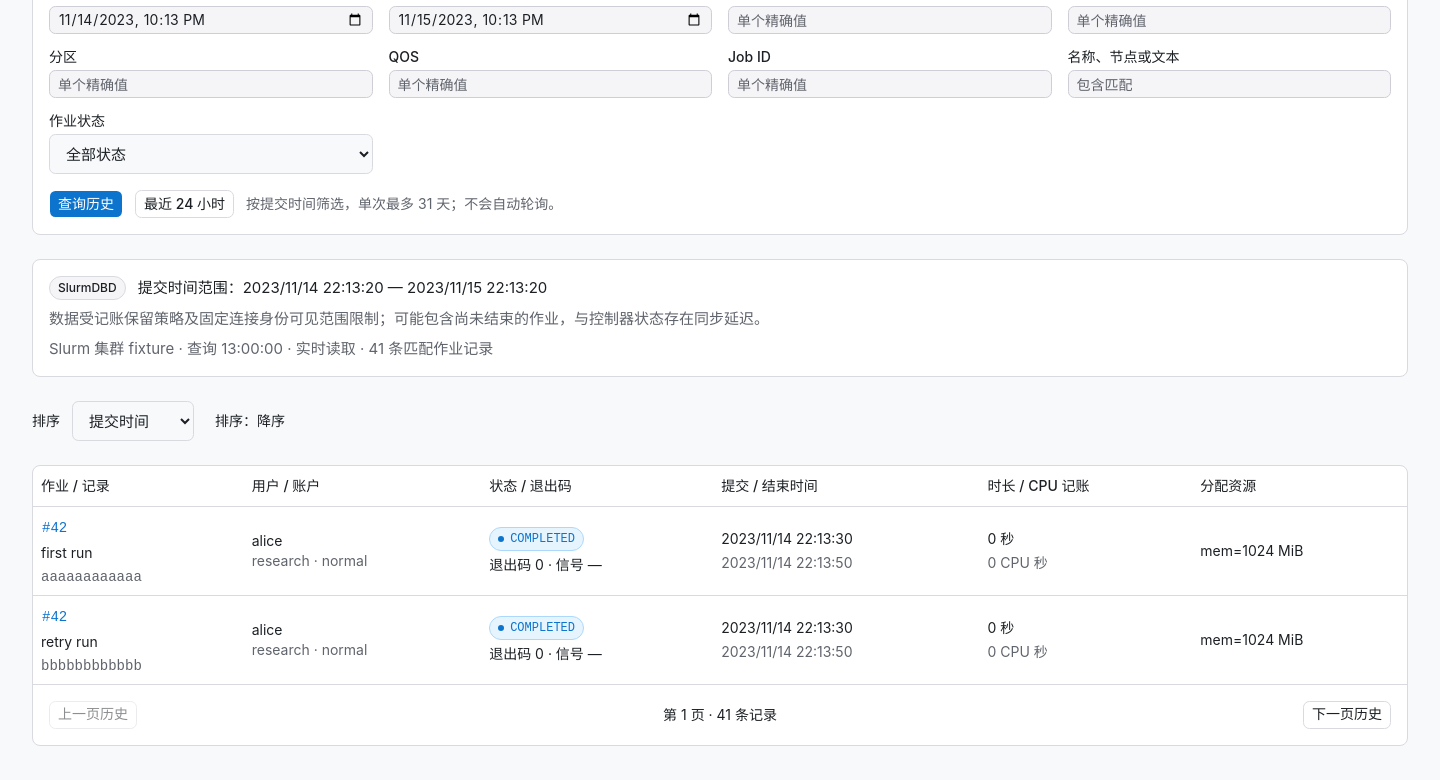
Test case: loads record detail without treating Job ID as unique and keeps step totals separate
(page scrolled)
Click the 1st button "#42": click(55, 528) [41,514,68,542]
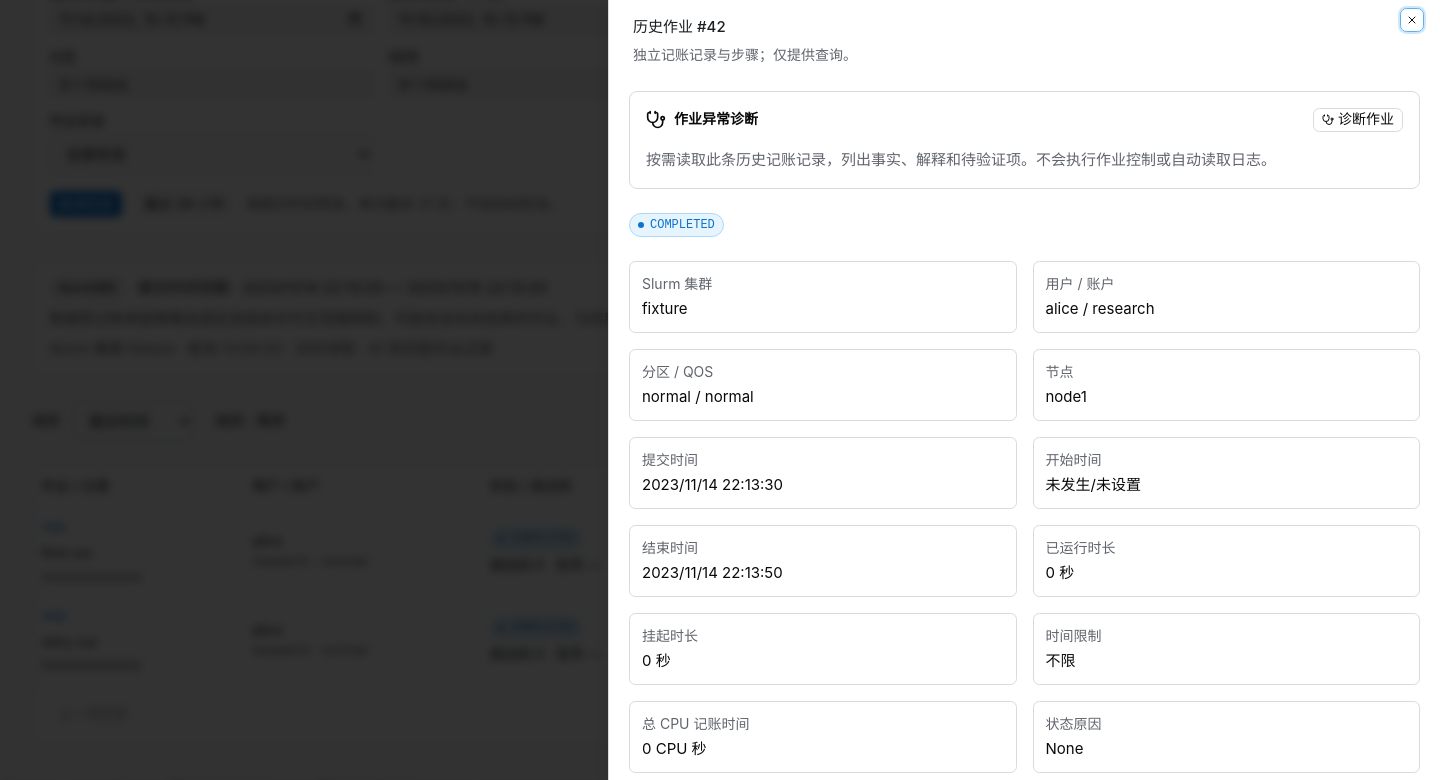
Result: the text "未发生/未设置" is shown at [1046,475,1141,494]
